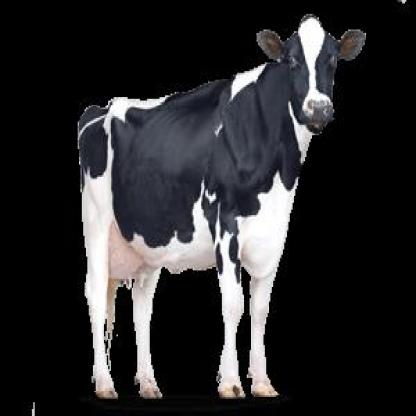cow: (81, 18, 364, 400)
